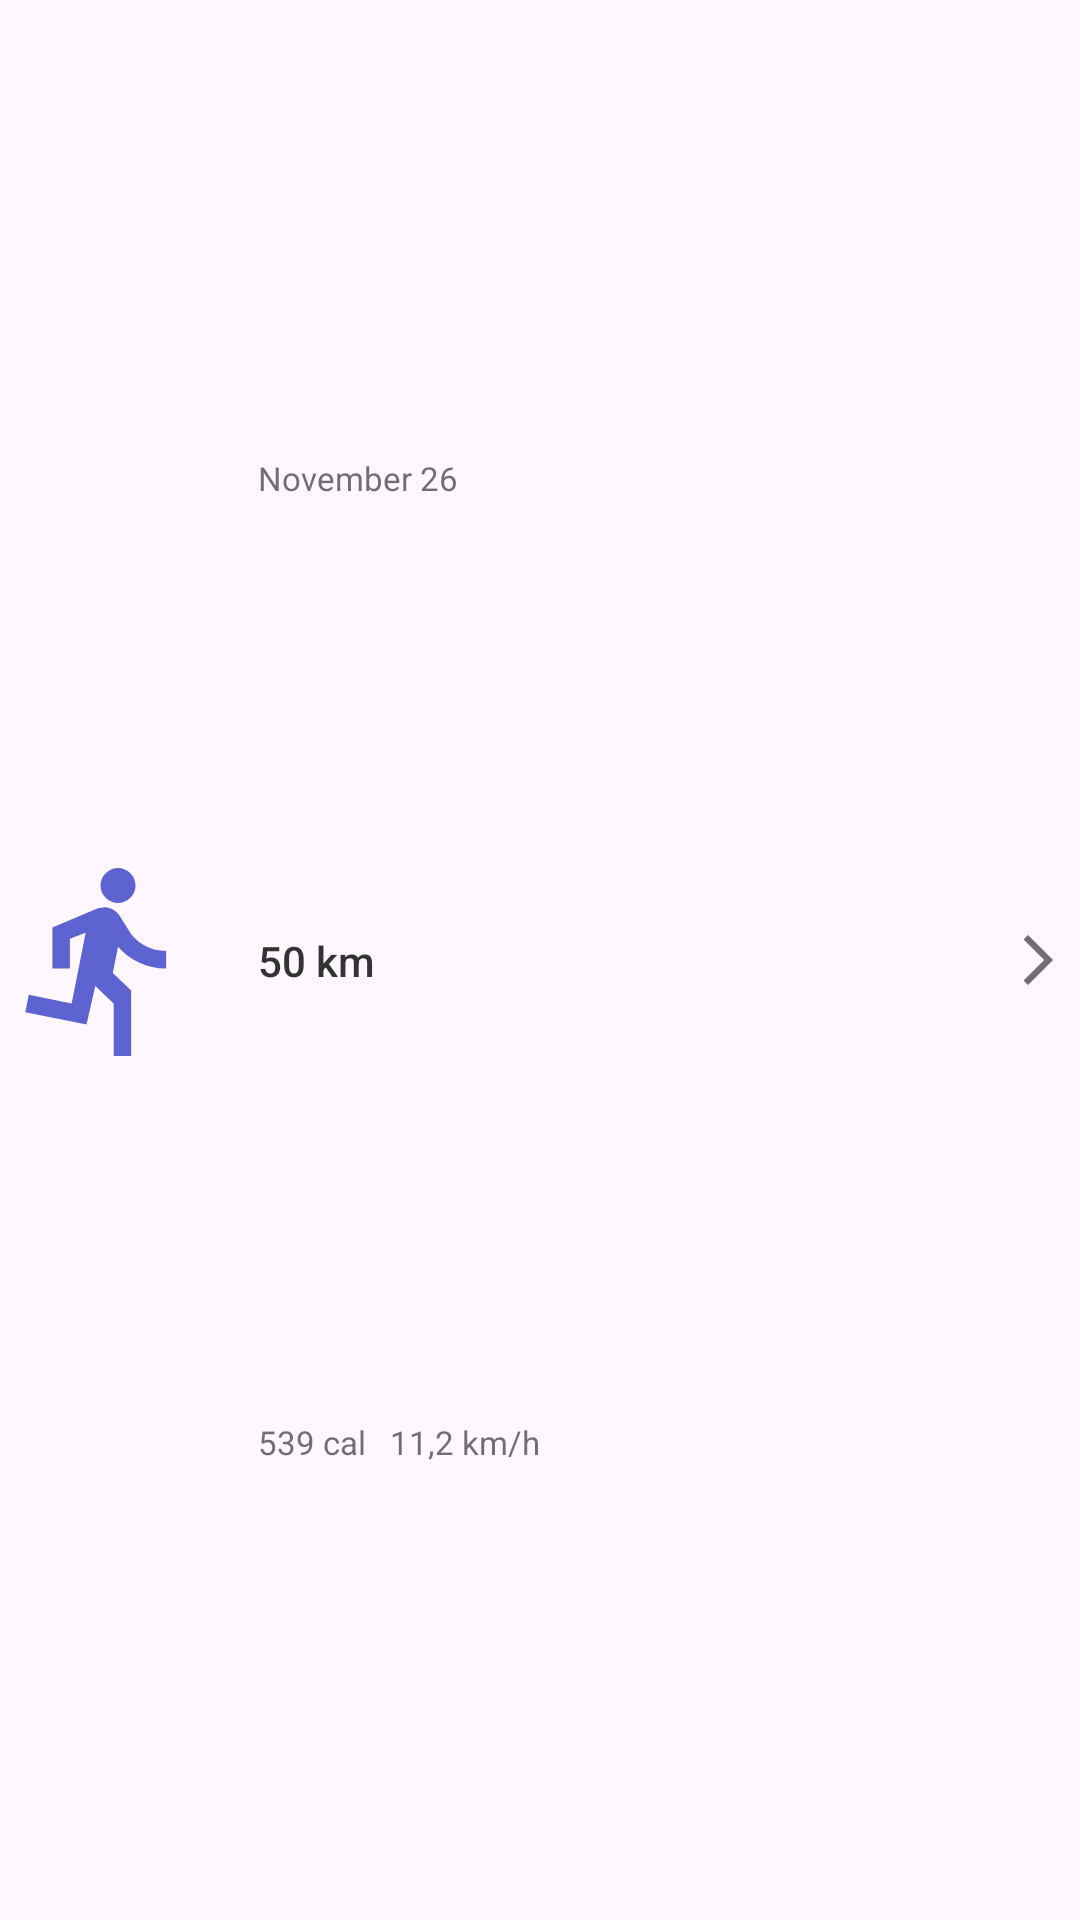

Where icons sit on this 1080px x 1920px app screen, as (x1, y1, x2, y2):
arrow forward: (1024, 935, 1053, 985)
directions run: (25, 868, 167, 1056)
